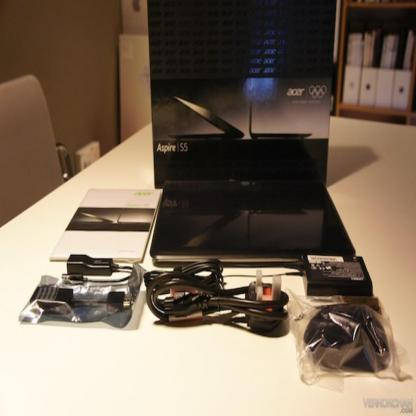board: (150, 180, 357, 270)
